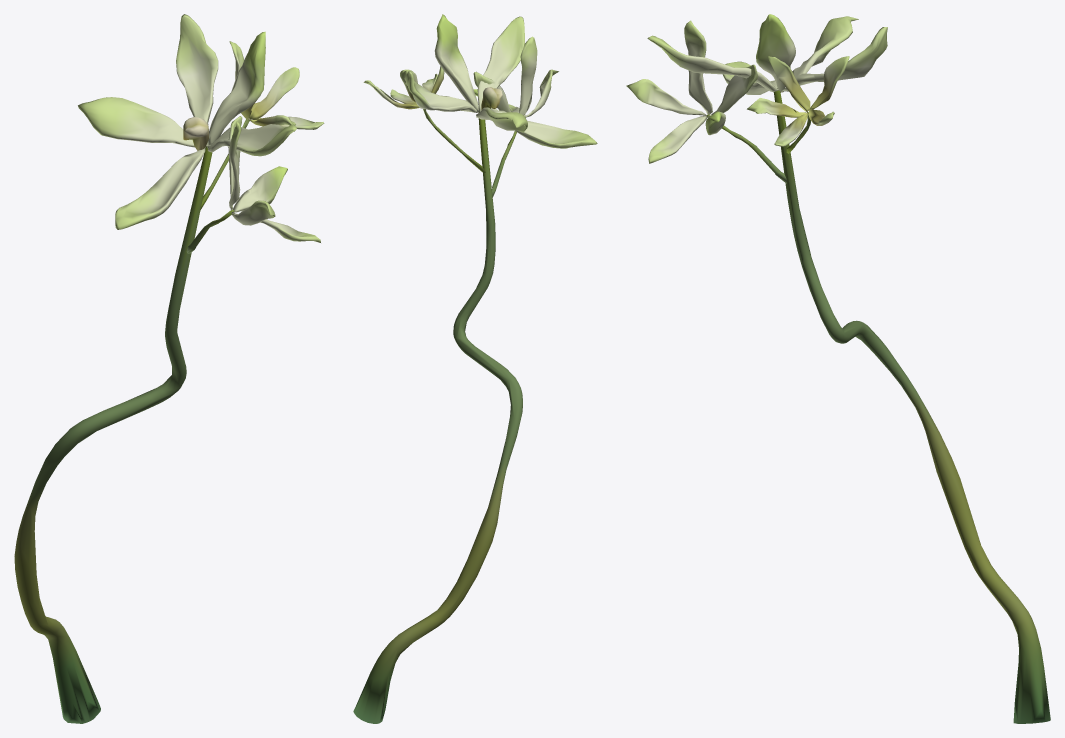
The picture shows the model from 3 angles, left to right: view 1: azimuth 30°, elevation 25°; view 2: azimuth 150°, elevation 25°; view 3: azimuth 270°, elevation 25°; orthographic projection. The views are drawn at different scales.
Parts seen in each view (by area): view 1: LOD 4_8817940389063460455_bb9398364d468ec489d5e3c54dd32286; view 2: LOD 4_8817940389063460455_bb9398364d468ec489d5e3c54dd32286; view 3: LOD 4_8817940389063460455_bb9398364d468ec489d5e3c54dd32286.
Part boxes in pixels (x1,y1,x2,y2): LOD 4_8817940389063460455_bb9398364d468ec489d5e3c54dd32286: [14, 14, 324, 723]; LOD 4_8817940389063460455_bb9398364d468ec489d5e3c54dd32286: [353, 14, 597, 723]; LOD 4_8817940389063460455_bb9398364d468ec489d5e3c54dd32286: [626, 14, 1050, 723].
Bounding box in the file's own units: 4.97 × 15.48 × 8.12.
